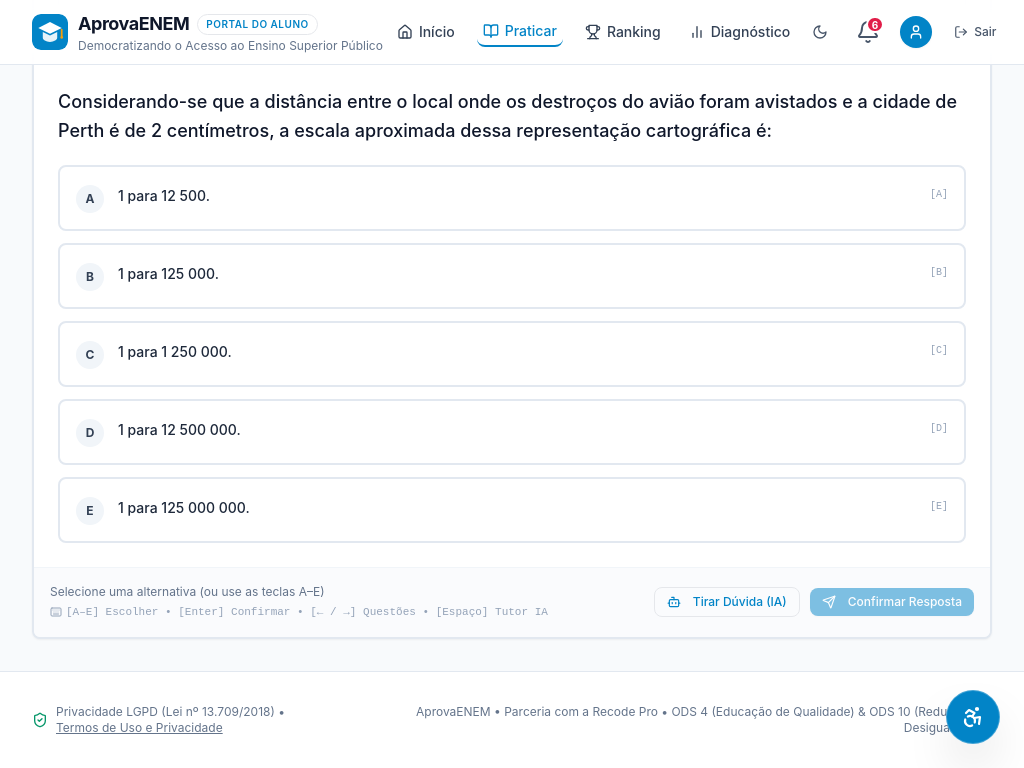
Test: Socratic AI Tutor Drawer & Quota Widget E2E › displays quota indicator with turns and midnight BRT reset timer
(page scrolled)
What coordinates should you click on to do the following:
click the button "Tirar Dúvida (IA)"
I would click on:
 (727, 603)
Its box is [654,588,800,618].
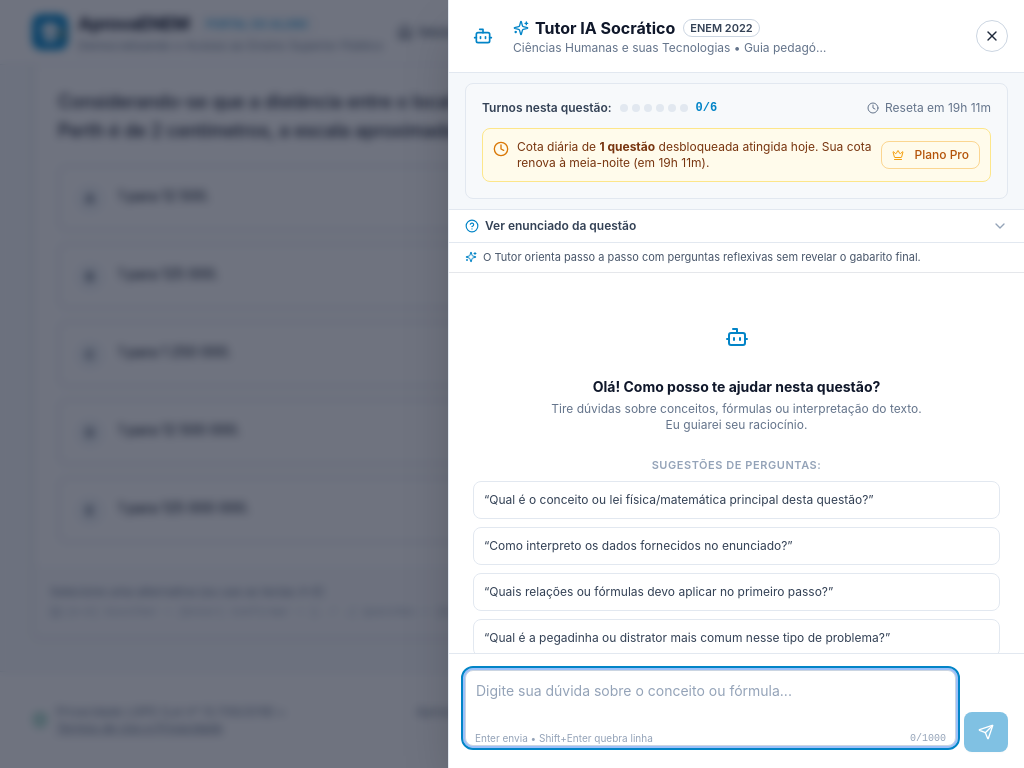
Now the text "Turnos nesta questão:" is shown, box [482,100,612,116]
